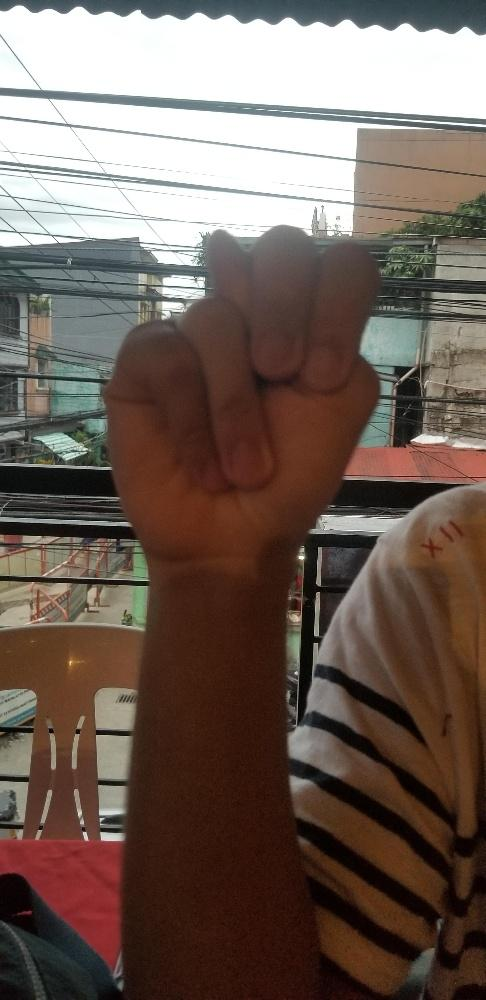n: (102, 222, 383, 565)
